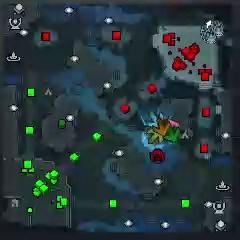x1: (169, 120, 180, 128)
x2: (147, 128, 163, 143)
x3: (148, 111, 164, 127)
x4: (164, 126, 180, 143)
x5: (152, 119, 170, 135)
